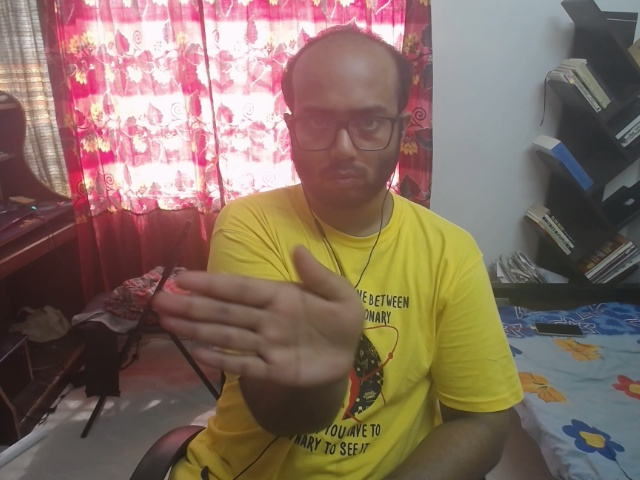south: (148, 230, 385, 411)
